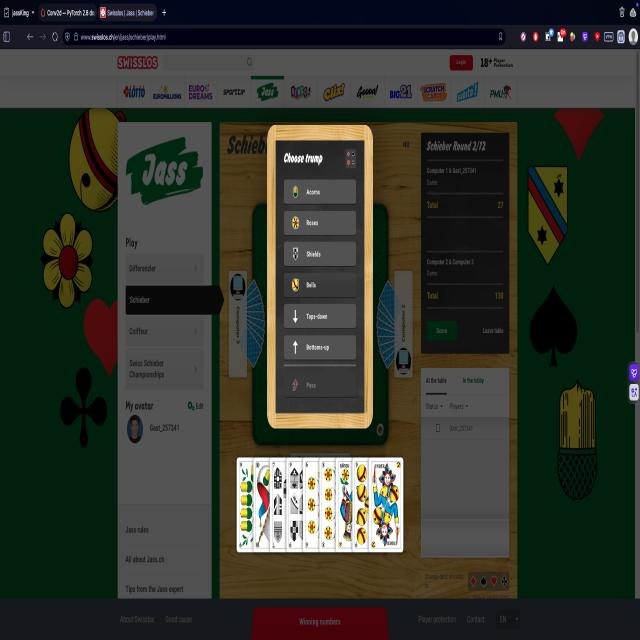ei10: (255, 457, 287, 553)
ei9: (238, 458, 268, 550)
ro6: (303, 457, 337, 553)
ro8: (320, 458, 356, 554)
rok: (336, 459, 369, 553)
se9: (353, 459, 385, 554)
seu: (370, 458, 403, 554)
si9: (288, 456, 323, 552)
siu: (270, 457, 308, 556)
